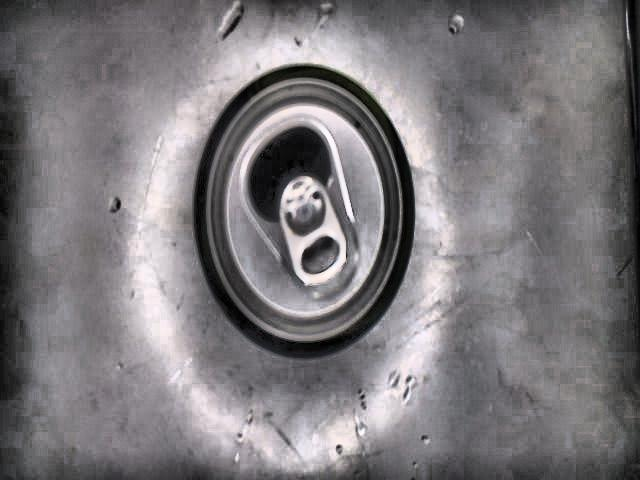Bottles: (193, 60, 417, 365)
